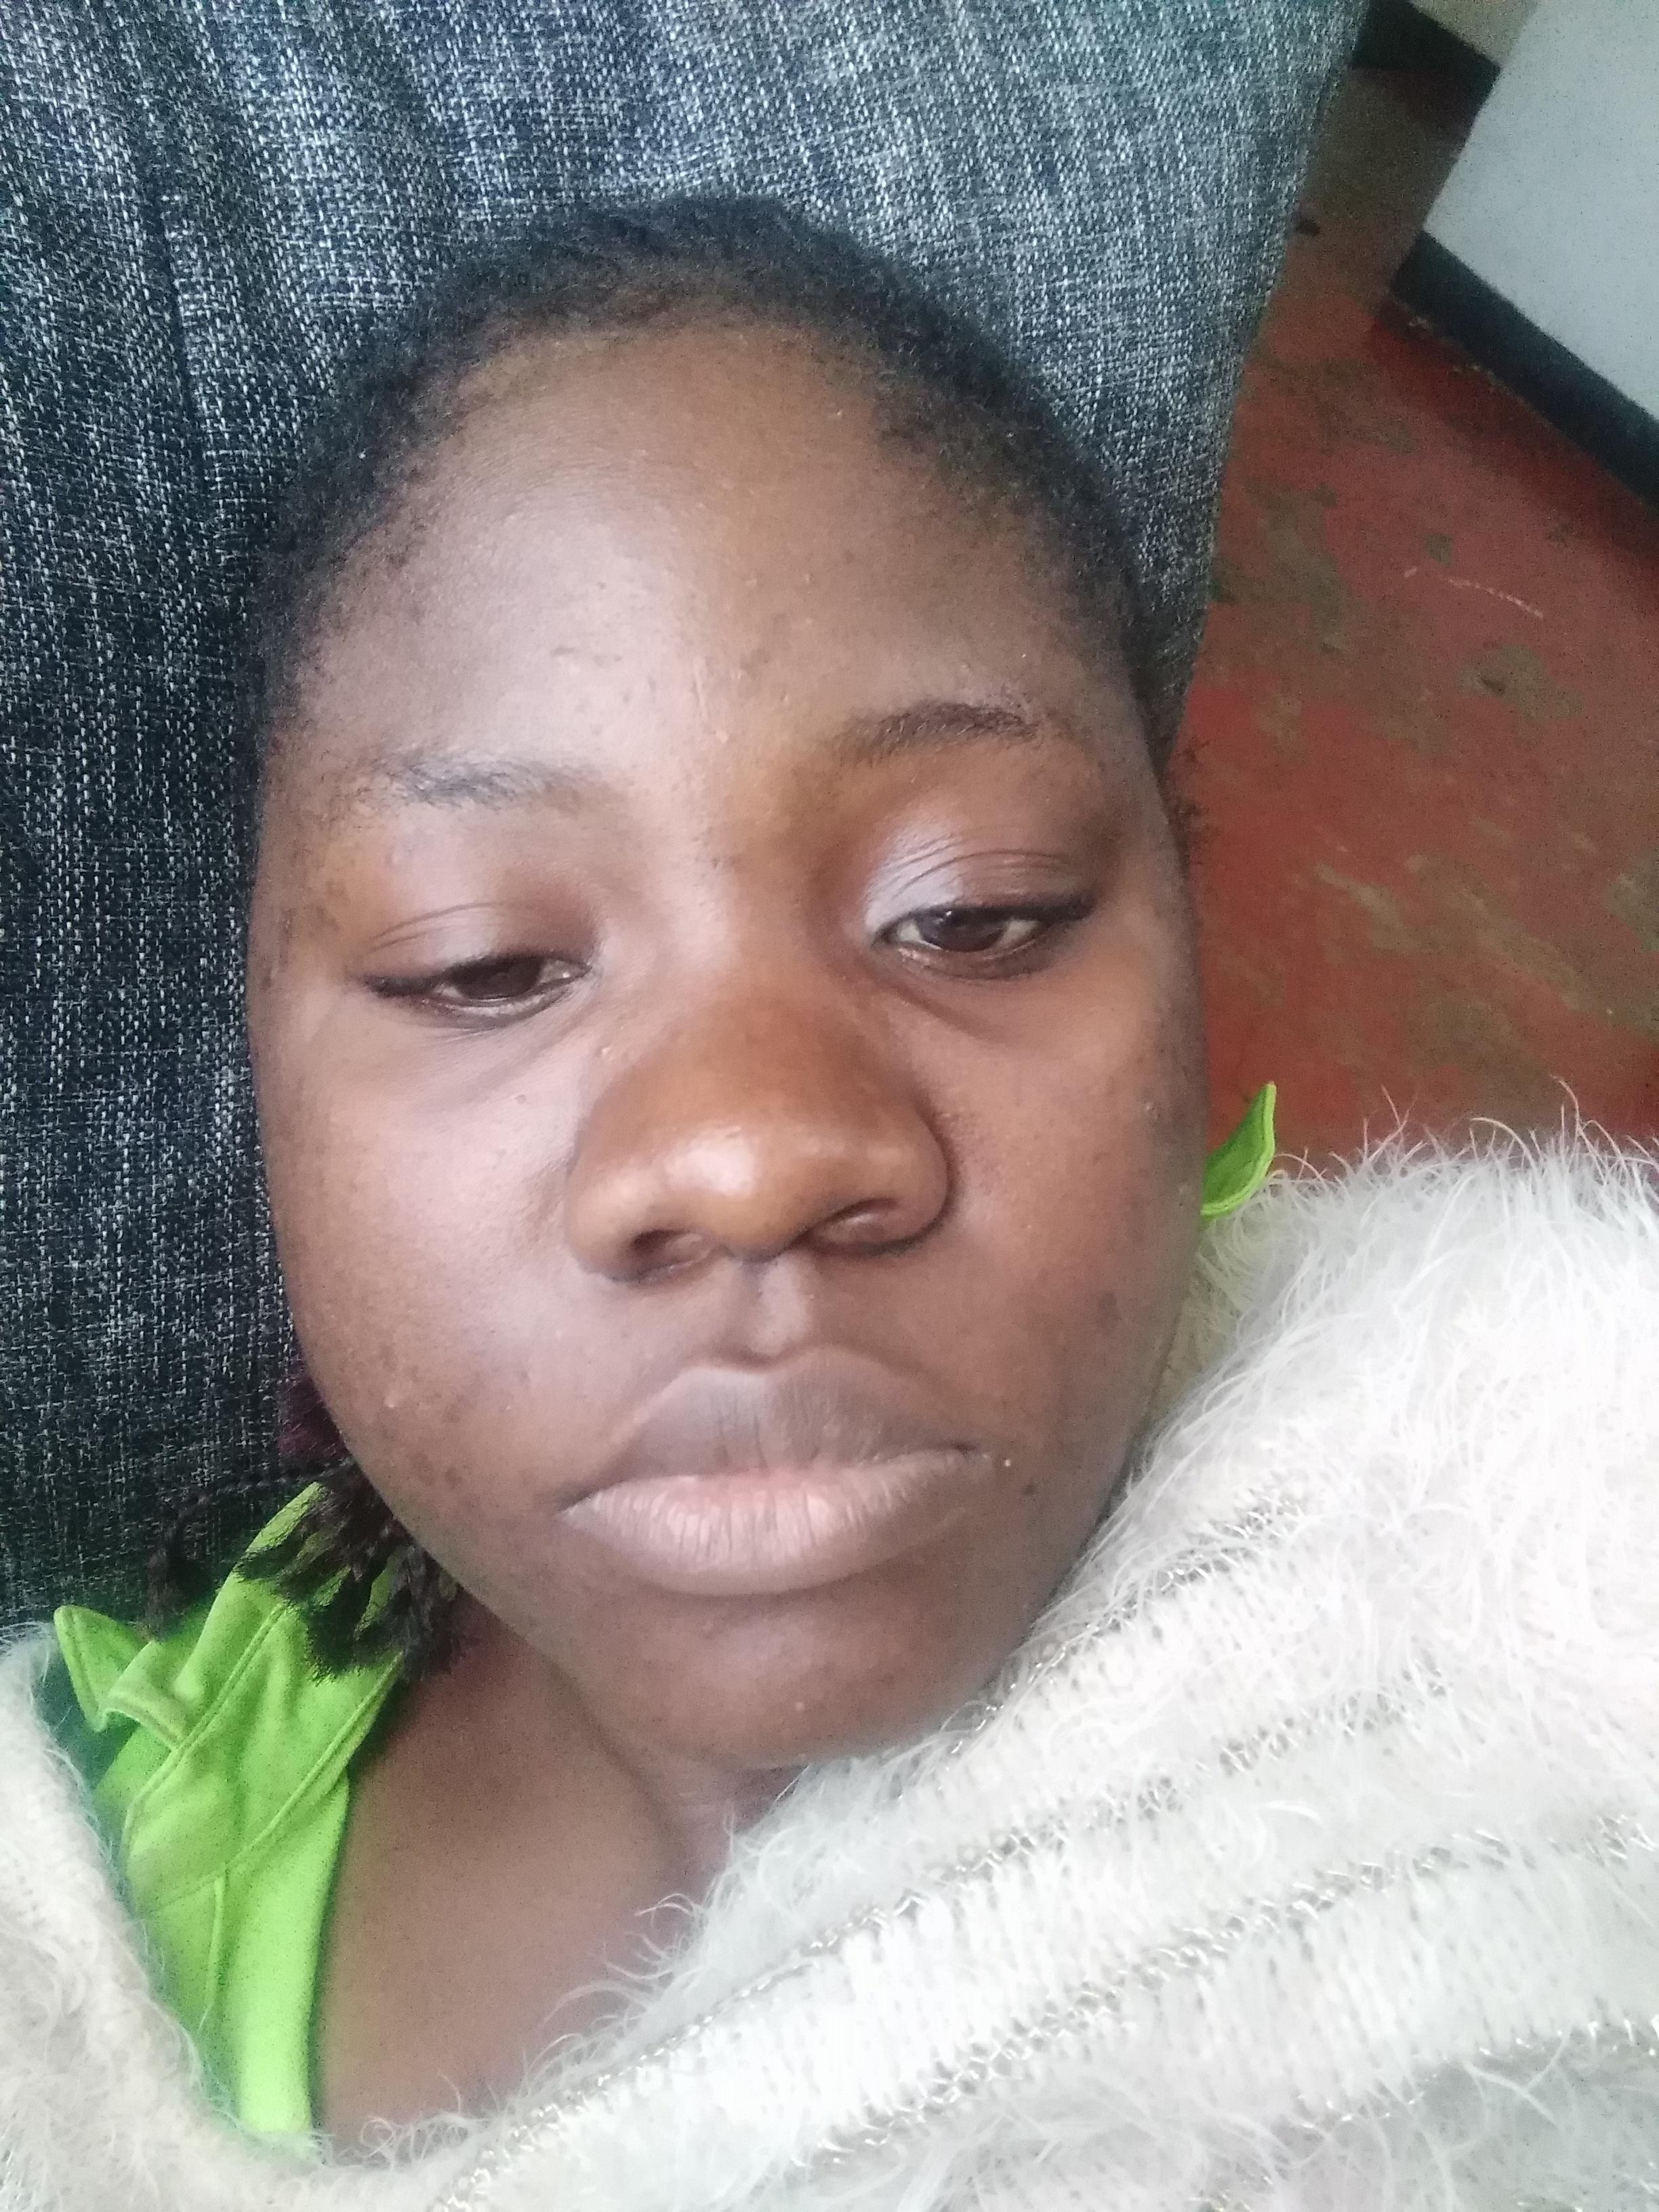Acne: (610, 669, 660, 711), (568, 693, 603, 747), (716, 573, 767, 610), (1091, 1282, 1126, 1332), (495, 488, 533, 533), (275, 904, 301, 970), (793, 1651, 850, 1681), (533, 637, 580, 671), (404, 1440, 434, 1489), (399, 597, 432, 637), (678, 1618, 720, 1648), (721, 662, 755, 697), (1169, 1165, 1195, 1209), (343, 1170, 375, 1204), (777, 1696, 812, 1726), (312, 902, 342, 935), (627, 1648, 660, 1677), (1098, 1066, 1122, 1103), (315, 876, 357, 897), (437, 1461, 465, 1493), (376, 1332, 399, 1369), (955, 648, 983, 678), (584, 1038, 613, 1064), (260, 956, 277, 1000), (1140, 1089, 1157, 1123), (713, 725, 737, 749), (507, 1090, 530, 1116), (868, 1674, 896, 1693), (382, 1392, 403, 1416), (512, 1367, 533, 1392), (631, 444, 655, 465), (387, 846, 408, 869), (803, 566, 819, 585)
